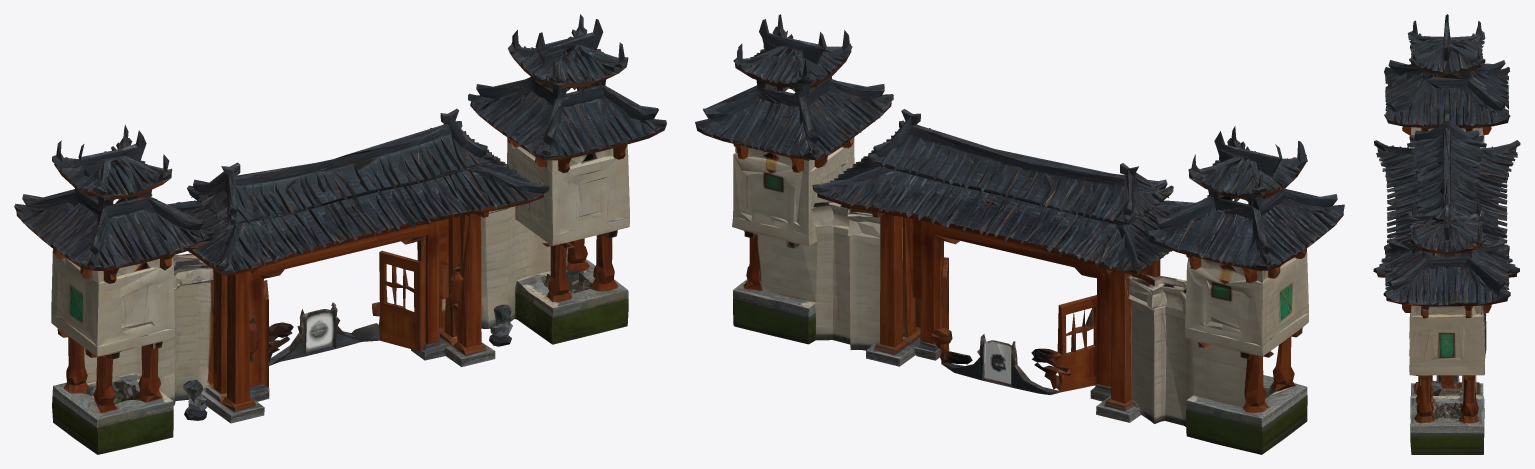
File: forest-gate.glb
3 views of the same model, side by side, from view 1: azimuth 30°, elevation 25°; view 2: azimuth 150°, elevation 25°; view 3: azimuth 270°, elevation 25° (orthographic). The views are drawn at different scales.
Size of the model in its own units: 1.9 by 0.9225 by 0.519.
1 material, 1 textured.
